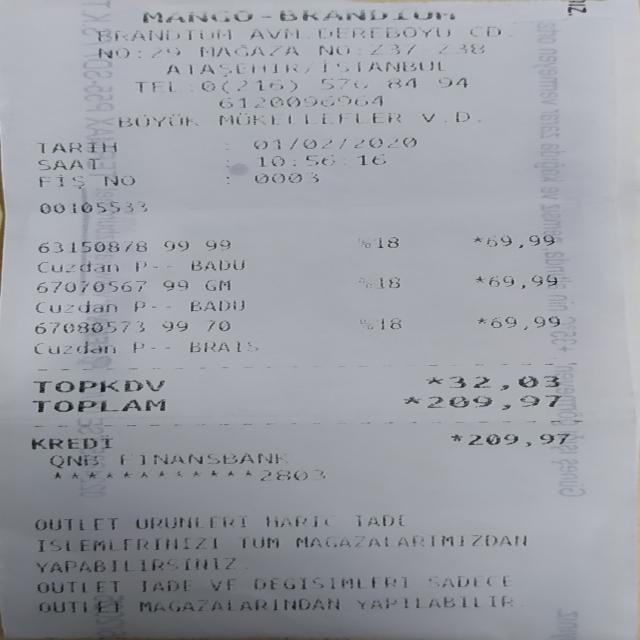text: (294, 533, 524, 548), (35, 536, 217, 552), (33, 558, 235, 572), (137, 597, 338, 611), (217, 111, 400, 125), (277, 7, 455, 21), (252, 135, 415, 150), (120, 451, 290, 465), (356, 594, 505, 609), (255, 574, 410, 588), (429, 394, 565, 409), (218, 95, 387, 107), (31, 378, 162, 393), (30, 398, 164, 412), (96, 27, 229, 41), (315, 24, 448, 38), (34, 278, 146, 294), (133, 514, 245, 530), (164, 62, 296, 75), (32, 320, 144, 335), (448, 374, 558, 389), (426, 572, 516, 590), (320, 59, 443, 72), (140, 9, 251, 23), (38, 238, 146, 252), (32, 338, 114, 356), (38, 578, 124, 595), (34, 515, 118, 532), (38, 200, 146, 213), (467, 432, 567, 446), (132, 259, 245, 271), (36, 599, 122, 614), (113, 112, 197, 127), (34, 298, 118, 313), (251, 153, 339, 167), (30, 435, 111, 450), (220, 78, 298, 93), (35, 259, 118, 273), (264, 514, 340, 529), (198, 45, 298, 56), (488, 274, 559, 288), (488, 315, 558, 329), (260, 467, 325, 482), (483, 235, 556, 248), (40, 141, 110, 154), (188, 339, 258, 352), (253, 170, 317, 184), (36, 157, 101, 170), (188, 297, 244, 312), (48, 452, 97, 468), (357, 511, 403, 528), (138, 578, 192, 592), (419, 109, 468, 124), (33, 174, 84, 188), (134, 79, 180, 94), (237, 534, 277, 551), (316, 77, 372, 89), (246, 26, 299, 38), (437, 41, 482, 54), (96, 172, 136, 186), (367, 44, 416, 54), (208, 576, 235, 594), (470, 23, 500, 39), (436, 74, 466, 89), (160, 277, 188, 293), (202, 276, 230, 292), (160, 318, 187, 334), (351, 152, 381, 166), (162, 236, 188, 252), (317, 42, 345, 56), (151, 46, 182, 58), (206, 317, 229, 333), (374, 316, 400, 330), (374, 236, 400, 249), (98, 48, 128, 59), (386, 78, 419, 88), (563, 0, 588, 13), (203, 238, 229, 250), (376, 277, 401, 288), (425, 374, 441, 390), (406, 394, 418, 411), (128, 341, 145, 353), (470, 233, 482, 249), (355, 317, 371, 328), (130, 300, 147, 310), (356, 236, 370, 248), (449, 432, 460, 447), (186, 79, 197, 93), (358, 277, 372, 288), (263, 8, 273, 23), (203, 78, 213, 93), (475, 314, 484, 330), (299, 60, 309, 74), (354, 42, 363, 56), (135, 49, 143, 58), (473, 276, 484, 282), (222, 143, 229, 151), (225, 159, 231, 168), (225, 171, 228, 186)
